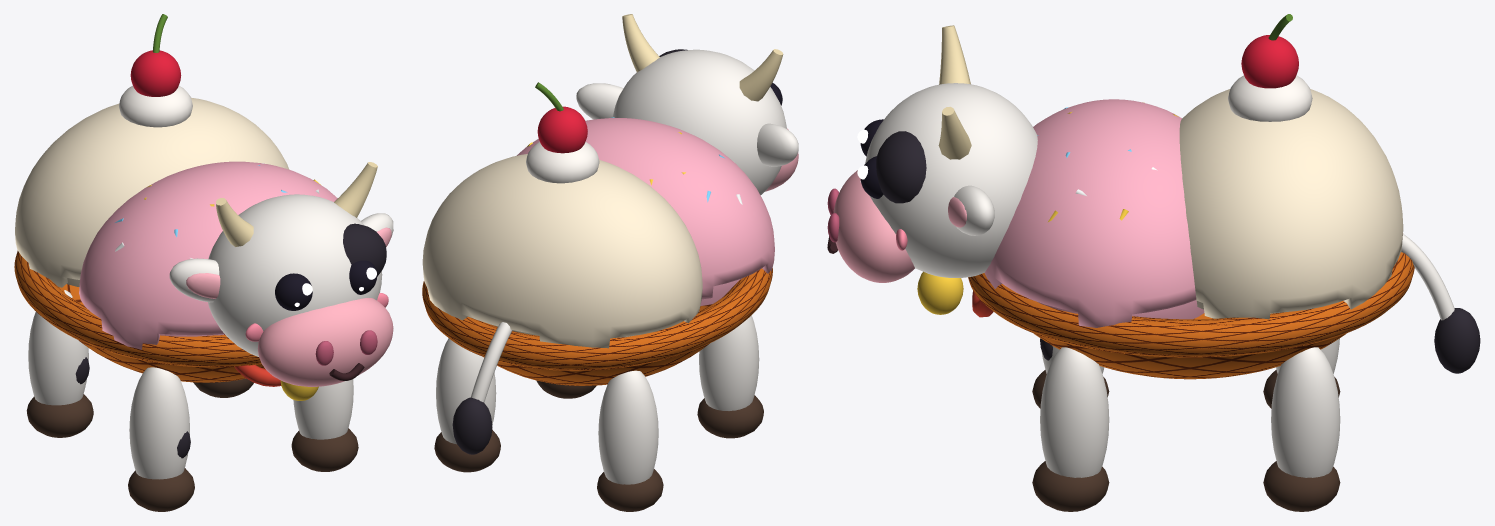
The model's file is pilot_ku_is.glb.
3 renders of one model, left to right at view 1: azimuth 30°, elevation 25°; view 2: azimuth 150°, elevation 25°; view 3: azimuth 270°, elevation 25°, orthographic. The views are drawn at different scales.
Visible parts, largest first — view 1: kropp, hode, bein_vf, bein_vb, bein_hf, bein_hb; view 2: kropp, hode, bein_vb, bein_vf, bein_hb, hale, bein_hf; view 3: kropp, hode, bein_hb, bein_hf, hale, bein_vf.
Boxes of the visible parts, x1=… form: kropp: x1=14, y1=14, x2=337, y2=382; hode: x1=169, y1=162, x2=393, y2=400; bein_vf: x1=128, y1=367, x2=194, y2=511; bein_vb: x1=26, y1=290, x2=93, y2=437; bein_hf: x1=291, y1=379, x2=358, y2=471; bein_hb: x1=193, y1=378, x2=253, y2=397; kropp: x1=422, y1=82, x2=774, y2=385; hode: x1=576, y1=14, x2=798, y2=195; bein_vb: x1=597, y1=370, x2=663, y2=511; bein_vf: x1=697, y1=315, x2=763, y2=438; bein_hb: x1=434, y1=338, x2=500, y2=472; hale: x1=452, y1=322, x2=512, y2=454; bein_hf: x1=536, y1=380, x2=596, y2=398; kropp: x1=968, y1=14, x2=1414, y2=379; hode: x1=827, y1=25, x2=1037, y2=317; bein_hb: x1=1263, y1=347, x2=1340, y2=511; bein_hf: x1=1032, y1=347, x2=1109, y2=511; hale: x1=1401, y1=234, x2=1480, y2=373; bein_vf: x1=1032, y1=338, x2=1109, y2=408.
Size of the model in its own units: 1 by 1.31 by 1.7.
22 materials, 1 textured.
